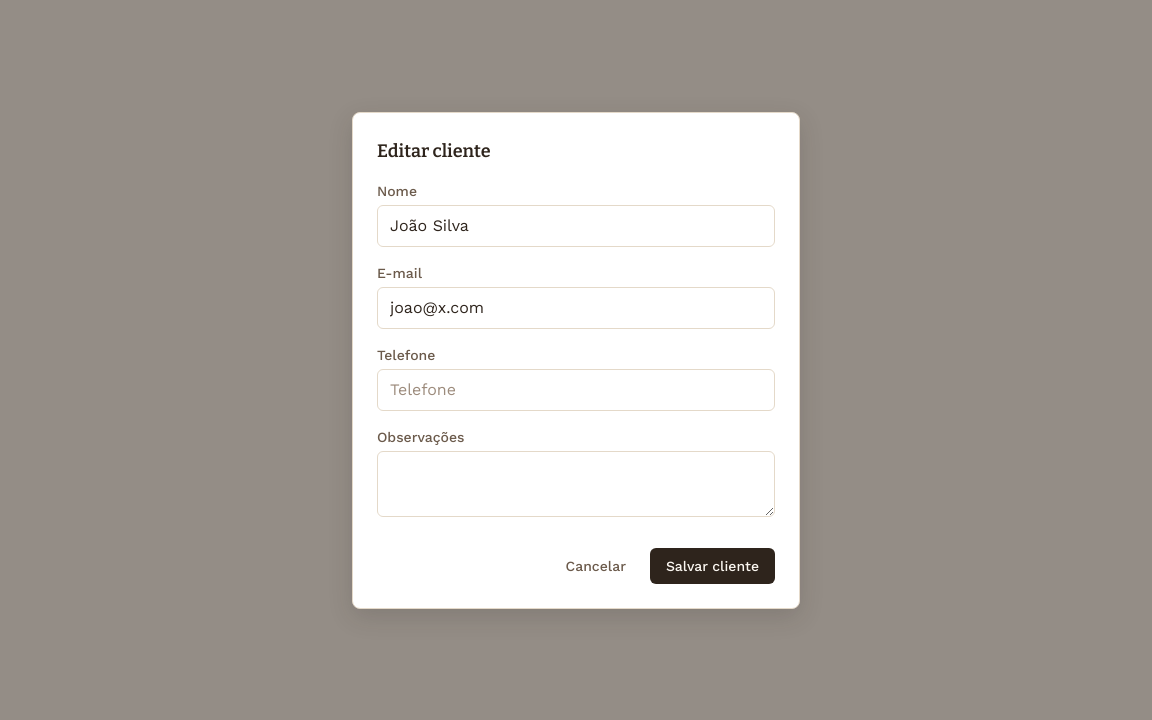
Test: ClientFormModal › disables the save button when the name is cleared
Clear the field labelled "Nome" at (576, 226), box left=377, top=204, right=775, bottom=246
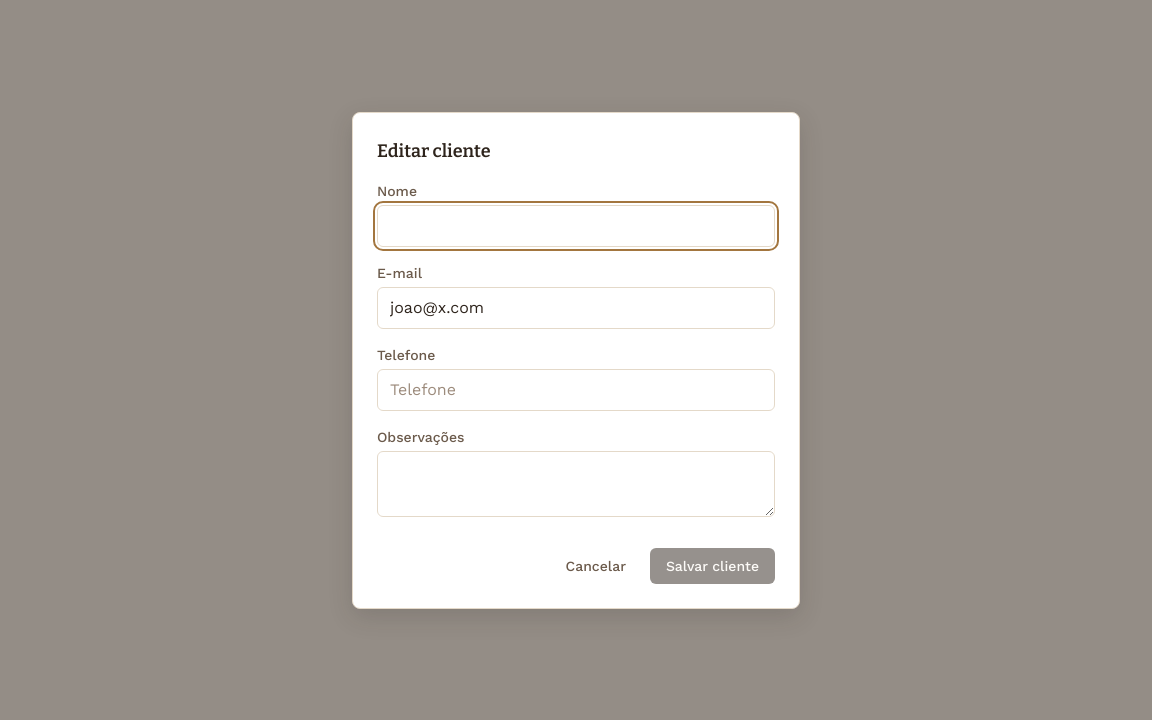
Check: the button "Salvar cliente" is disabled, box left=650, top=548, right=775, bottom=584
